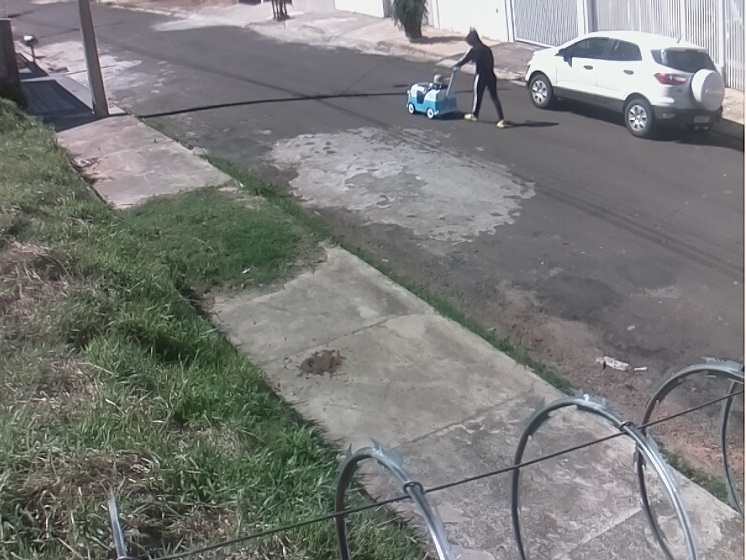person: (450, 29, 506, 129)
